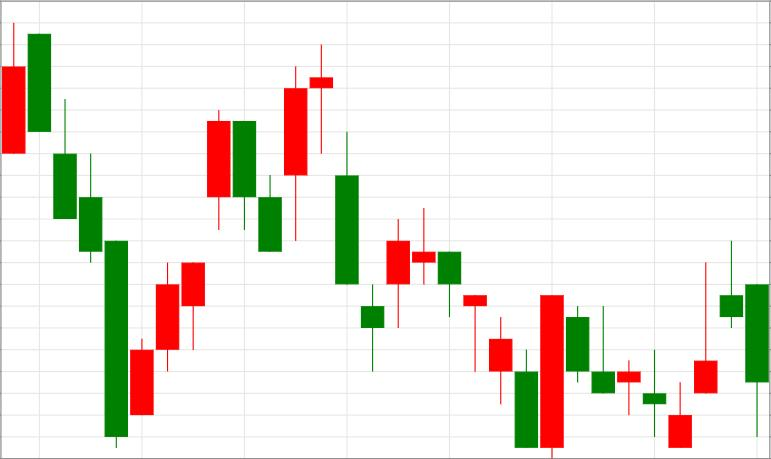bullish_engulfing_rise: (386, 207, 564, 459)
